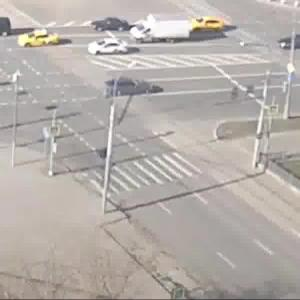car: (123, 14, 196, 42), (19, 29, 68, 48), (91, 16, 129, 34), (90, 41, 129, 56), (185, 18, 221, 34), (129, 27, 155, 43)
